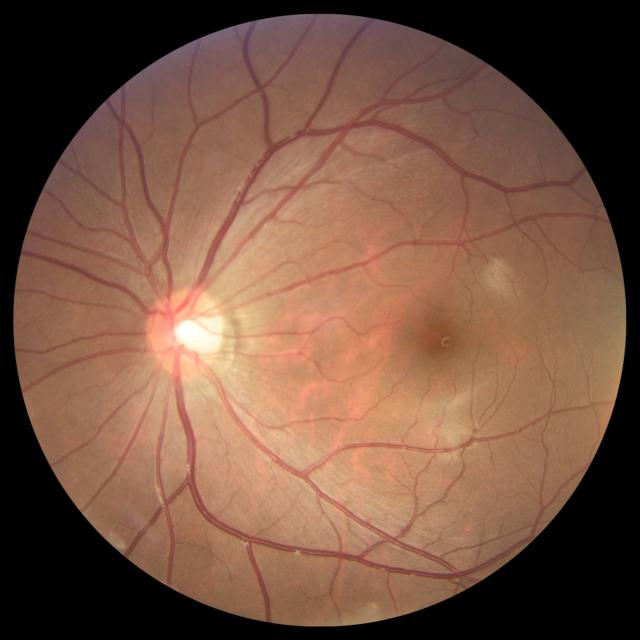OC: (171, 312, 211, 355)
OD: (147, 286, 225, 374)
